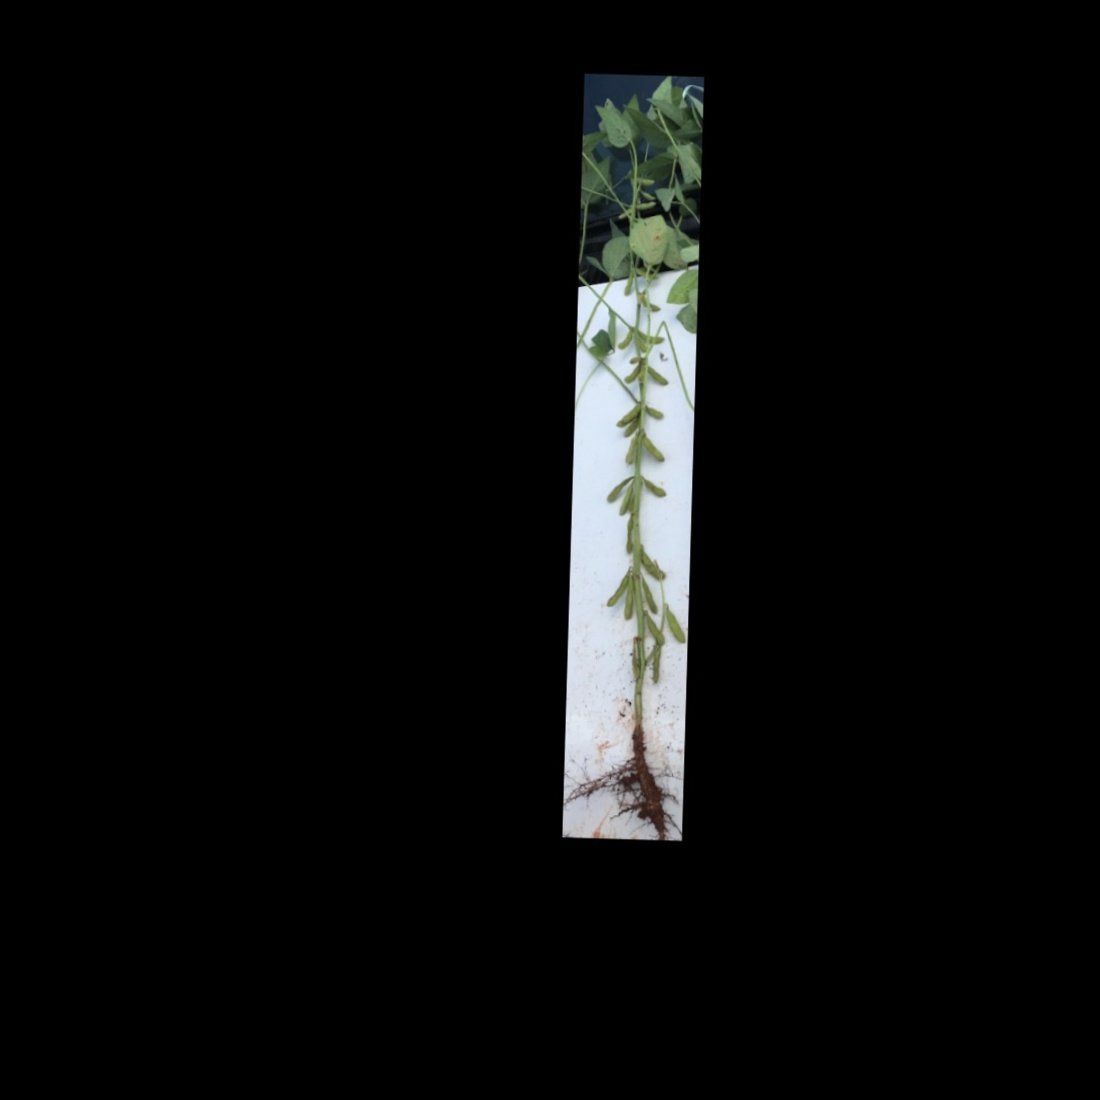pod: (636, 545, 667, 581), (658, 605, 686, 645), (601, 473, 636, 503), (606, 568, 630, 610), (641, 431, 668, 463), (613, 399, 640, 430), (644, 362, 672, 388), (641, 577, 660, 615), (642, 614, 665, 646), (648, 647, 664, 691), (638, 474, 668, 498), (622, 576, 636, 620), (624, 431, 638, 468), (621, 360, 640, 386), (639, 402, 666, 420), (636, 328, 666, 343), (618, 485, 633, 517), (617, 328, 634, 351)
soy: (564, 76, 701, 831)
